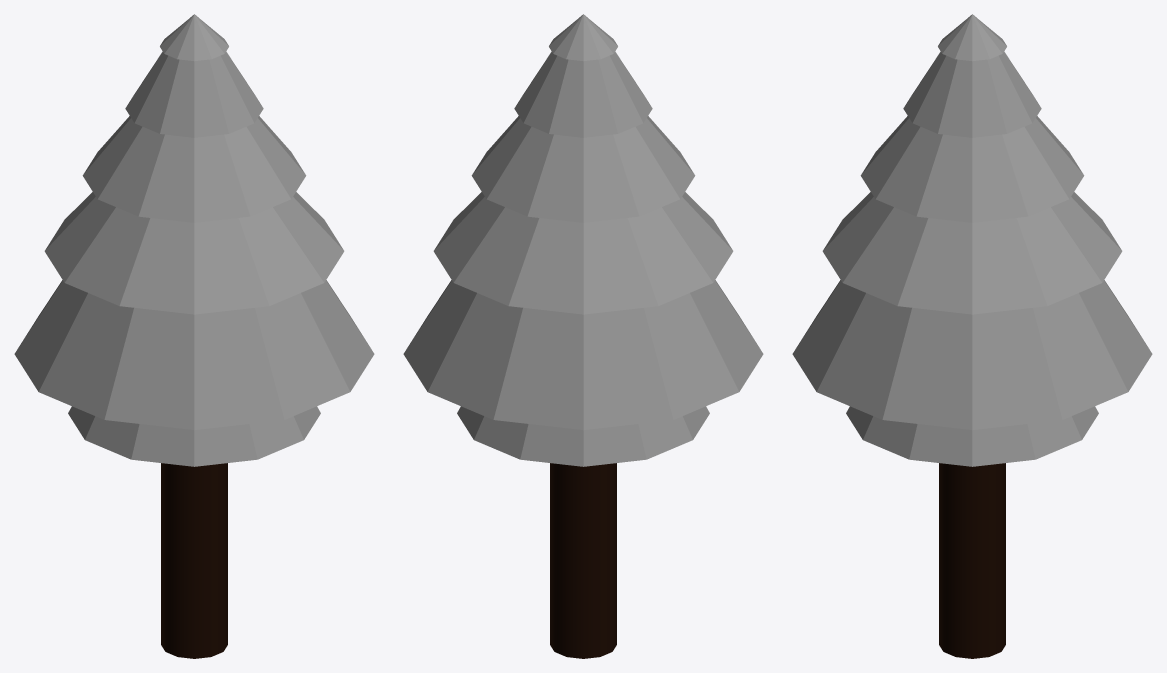
The model's file is Tree2.FBX.
3 views of the same model, side by side, from view 1: azimuth 30°, elevation 25°; view 2: azimuth 150°, elevation 25°; view 3: azimuth 270°, elevation 25° (orthographic).
Visible parts, largest first — view 1: Cylinder001; view 2: Cylinder001; view 3: Cylinder001.
Boxes of the visible parts, bbox=[...] form: Cylinder001: bbox=[14, 14, 374, 658]; Cylinder001: bbox=[403, 14, 763, 658]; Cylinder001: bbox=[792, 14, 1152, 658].
Bounding box in the file's own units: 16.68 × 32.23 × 16.68.
